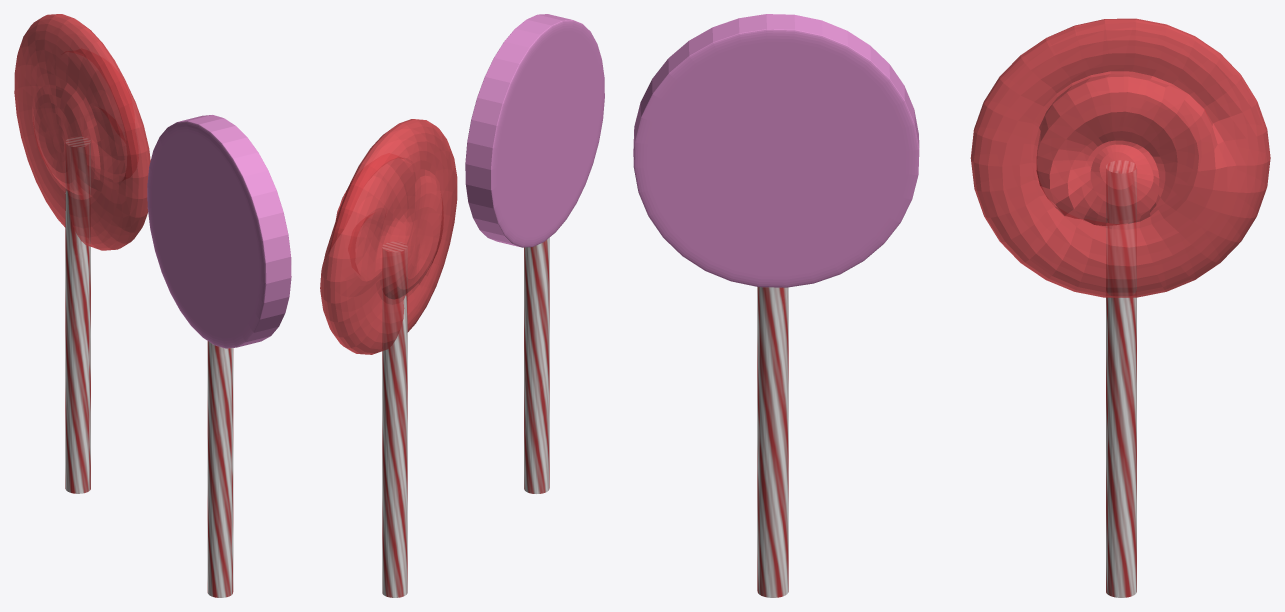
File: PIRULITOS.fbx
The picture shows the model from 3 angles, left to right: view 1: azimuth 30°, elevation 25°; view 2: azimuth 150°, elevation 25°; view 3: azimuth 270°, elevation 25°; orthographic projection. The views are drawn at different scales.
Parts seen in each view (by area): view 1: Cylinder.001, Sphere, Cylinder.002, Cylinder; view 2: Cylinder.001, Sphere, Cylinder.002, Cylinder; view 3: Sphere, Cylinder.001, Cylinder.002, Cylinder.
Part boxes in pixels (bbox=[...]): Cylinder.001: bbox=[147, 115, 291, 348]; Sphere: bbox=[14, 14, 150, 250]; Cylinder.002: bbox=[65, 137, 90, 493]; Cylinder: bbox=[207, 341, 233, 597]; Cylinder.001: bbox=[465, 14, 604, 247]; Sphere: bbox=[320, 119, 457, 354]; Cylinder.002: bbox=[382, 242, 407, 597]; Cylinder: bbox=[524, 238, 549, 493]; Sphere: bbox=[970, 18, 1270, 297]; Cylinder.001: bbox=[633, 14, 919, 287]; Cylinder.002: bbox=[1106, 160, 1136, 597]; Cylinder: bbox=[757, 287, 788, 597].
Size of the model in its own units: 260 by 1802 by 1824.
